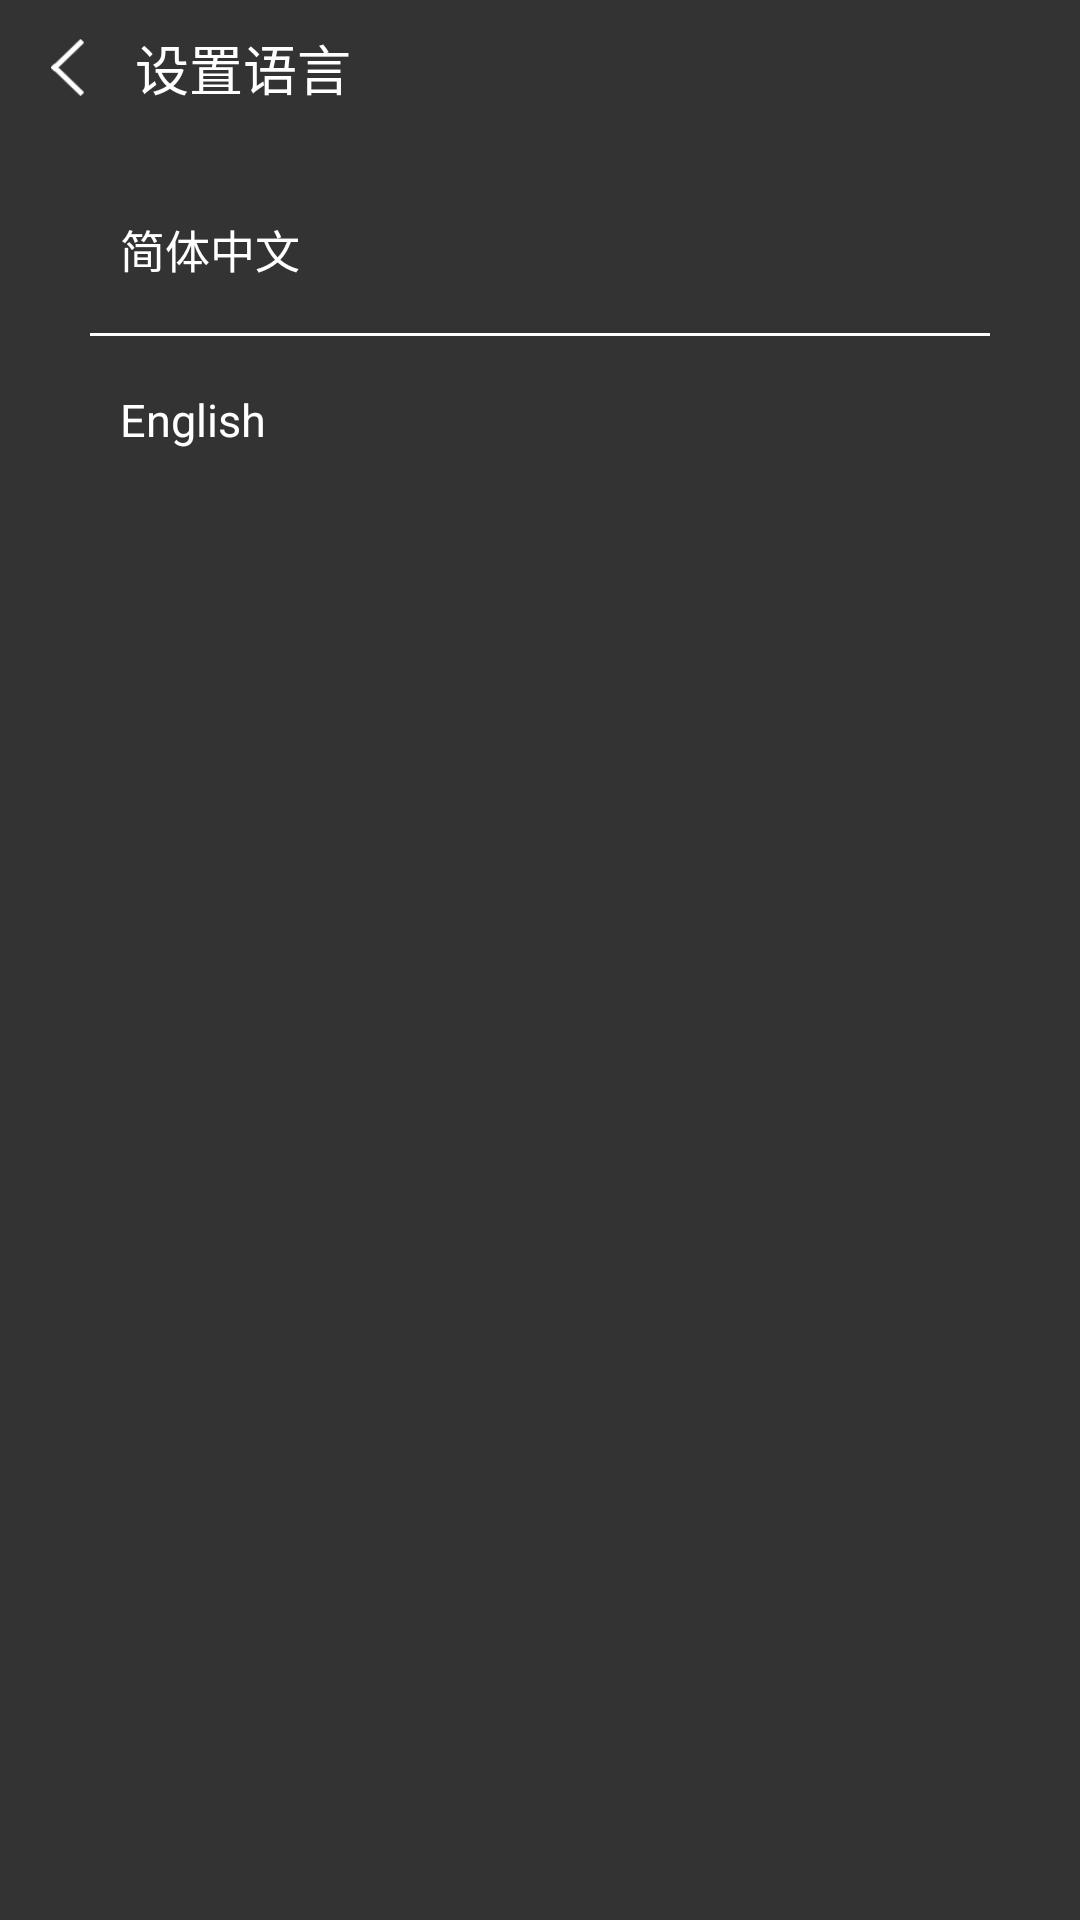

Icon bounding boxes for this 1080 x 1920 phone screenshot, format {"x1": x1, "y1": y1, "x2": x2, "y2": y2}:
back: {"x1": 51, "y1": 39, "x2": 84, "y2": 96}
